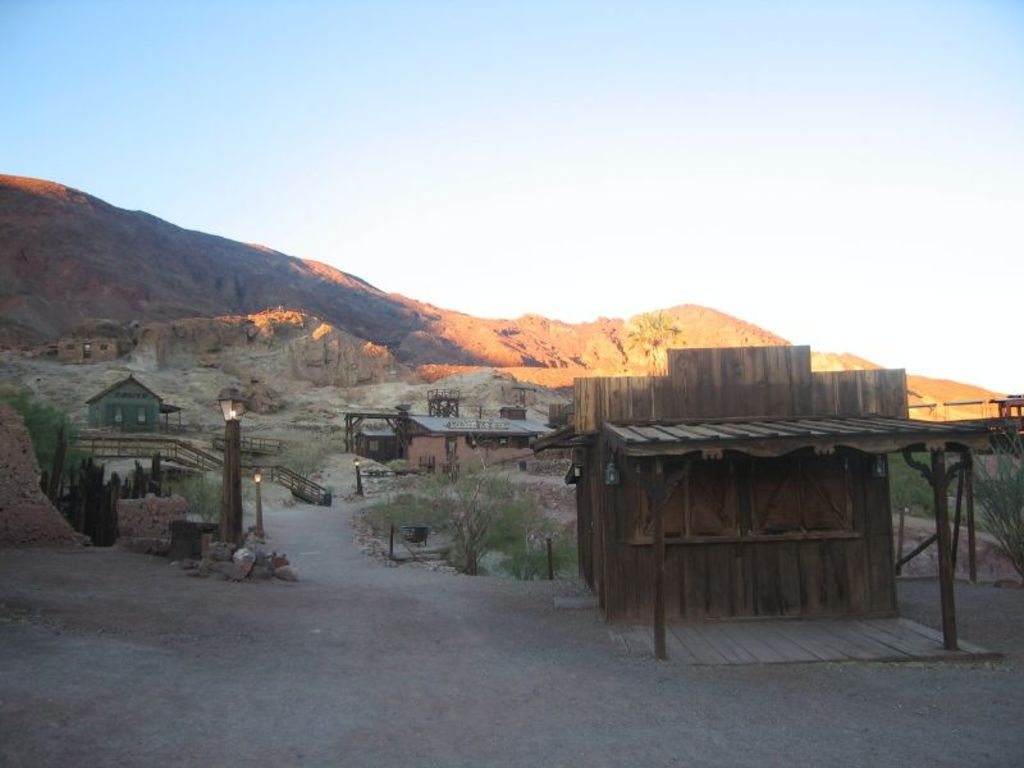Tree: (382, 462, 554, 587), (971, 435, 1022, 596), (163, 471, 213, 522), (276, 447, 322, 485)
